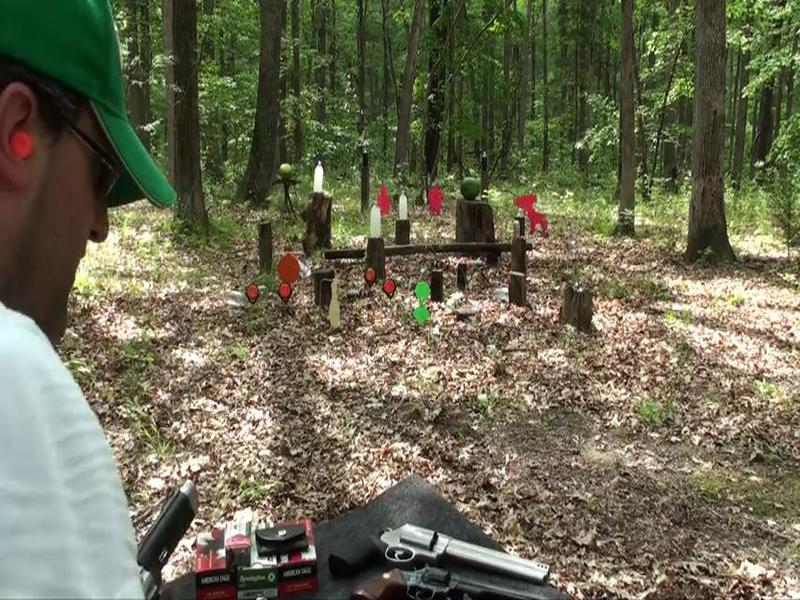Revolver: (317, 505, 573, 599)
